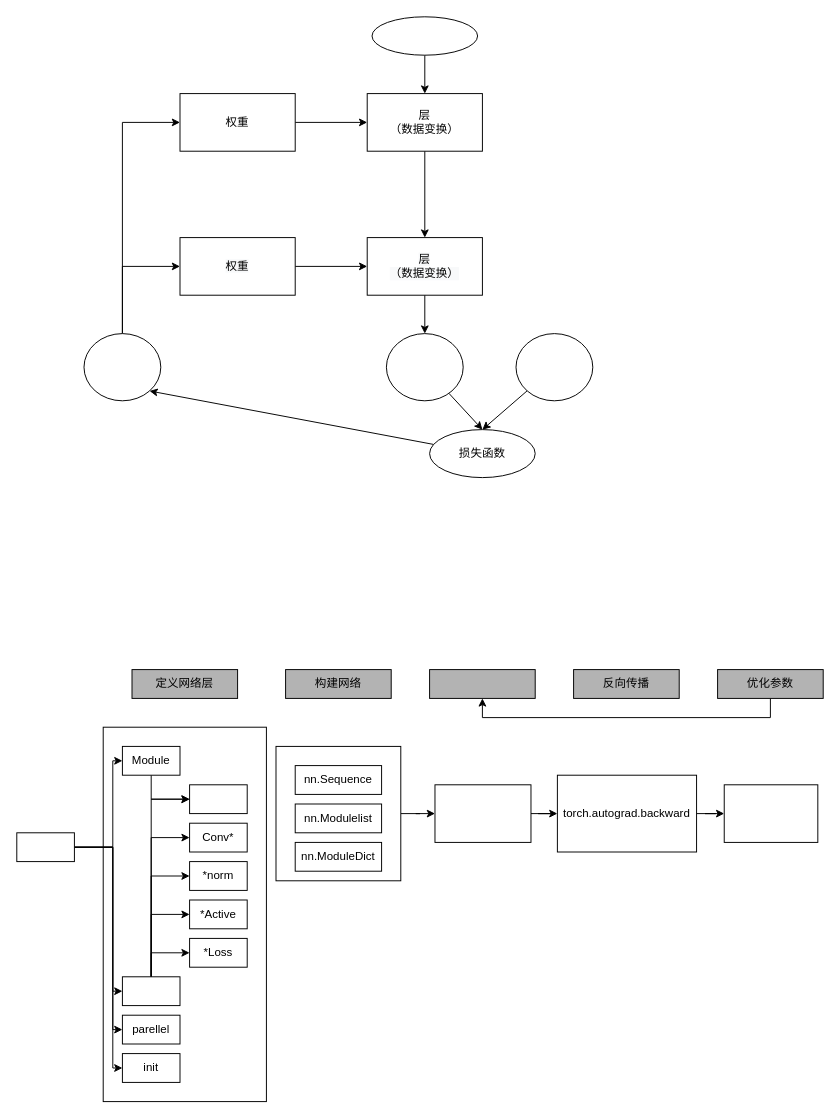
The diagram is 840 pixels wide and 1118 high, and some of its shapes have lost their labels. The shapes that lost their labels are listed below. From the top down, each one's box as (x1, y1, x2, y2) in pixels, then its label:
(371, 16, 478, 55): 输入X
(83, 333, 161, 401): 优化器
(385, 333, 463, 401): 预测值y'
(515, 333, 593, 401): 真实值y
(429, 669, 535, 698): 前向传播
(189, 784, 247, 814): Linear
(434, 784, 531, 842): forword Model() Loss()
(723, 784, 818, 842): torch.optims.step
(16, 832, 74, 862): torch.nn
(121, 976, 180, 1006): functional
